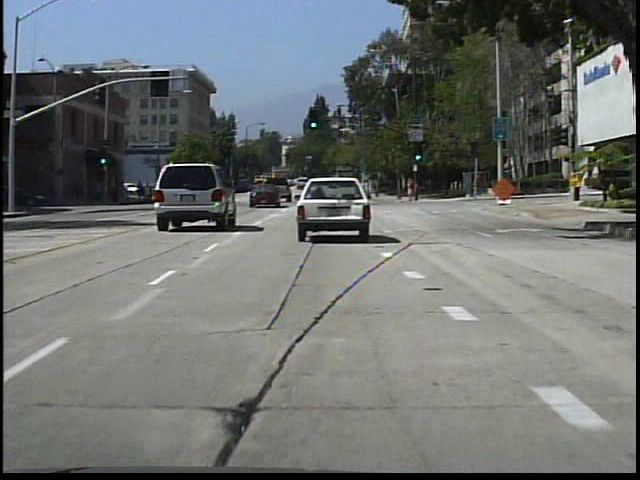person: (404, 174, 420, 207)
